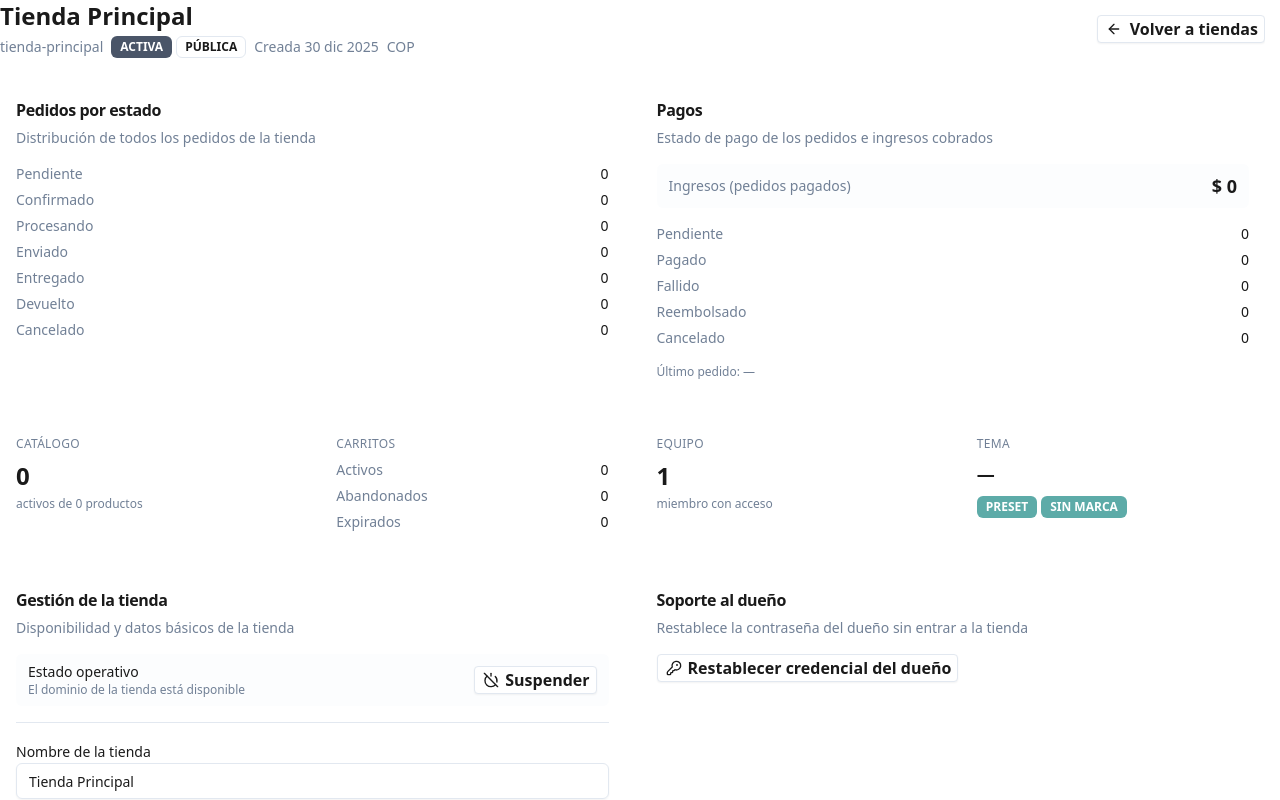
it: ResetOwnerCredentialButton (D7 soporte) › names the owner and warns the credential is the shared platform sign-in before confirming
Step 1. Click the button "Restablecer credencial del dueño" → click(807, 668), box [656,654,958,682]
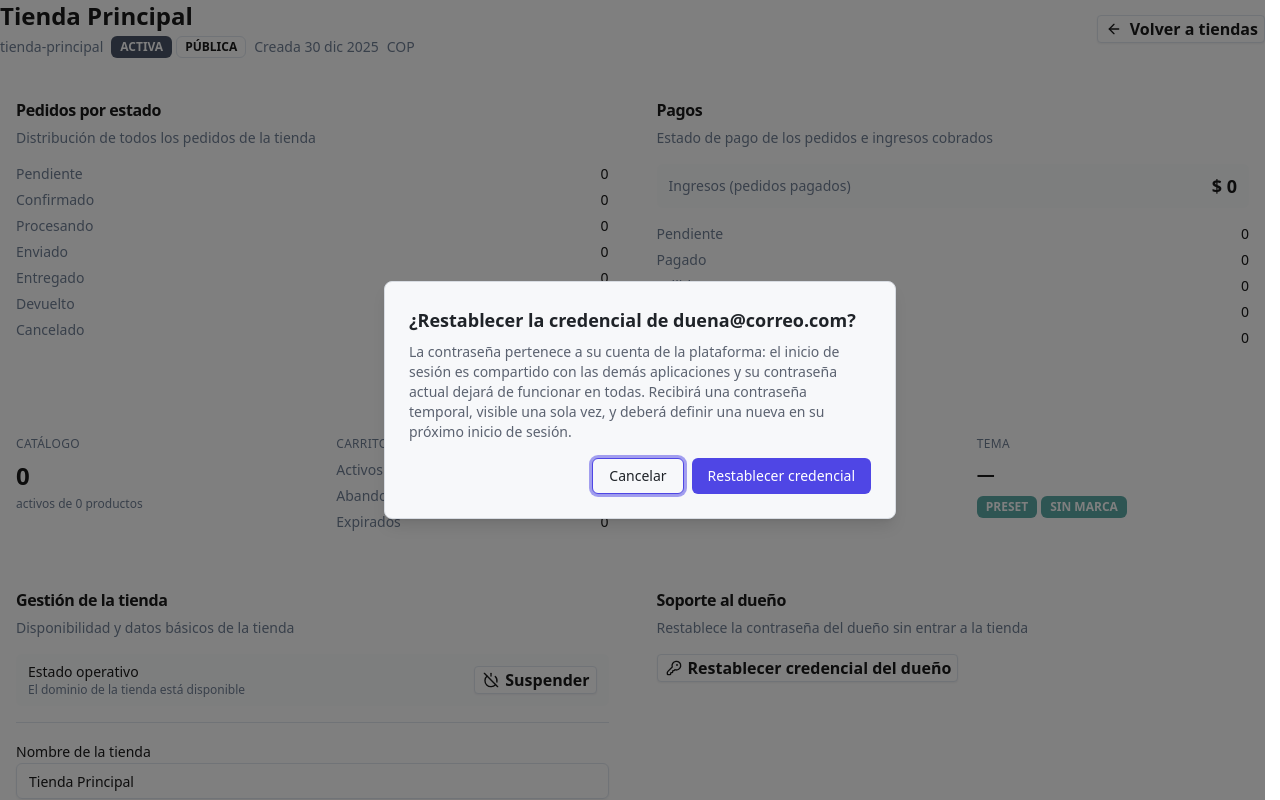
Expected: the heading "¿Restablecer la credencial de duena@correo.com?" is shown, [409,306,871,334]
Expected: the text "próximo inicio de sesión" is shown, [409,342,840,441]
